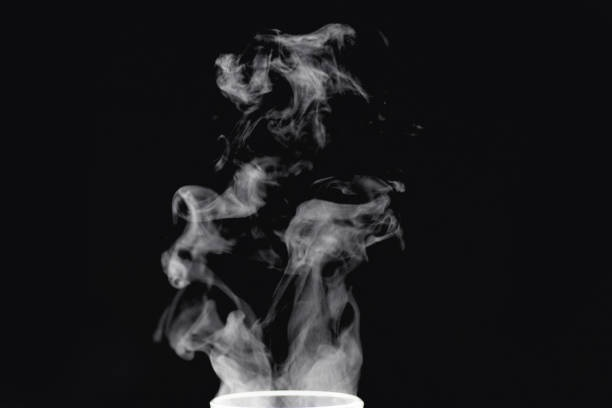smoke: (282, 175, 406, 396), (203, 21, 362, 148), (156, 154, 269, 287), (159, 297, 274, 390)
